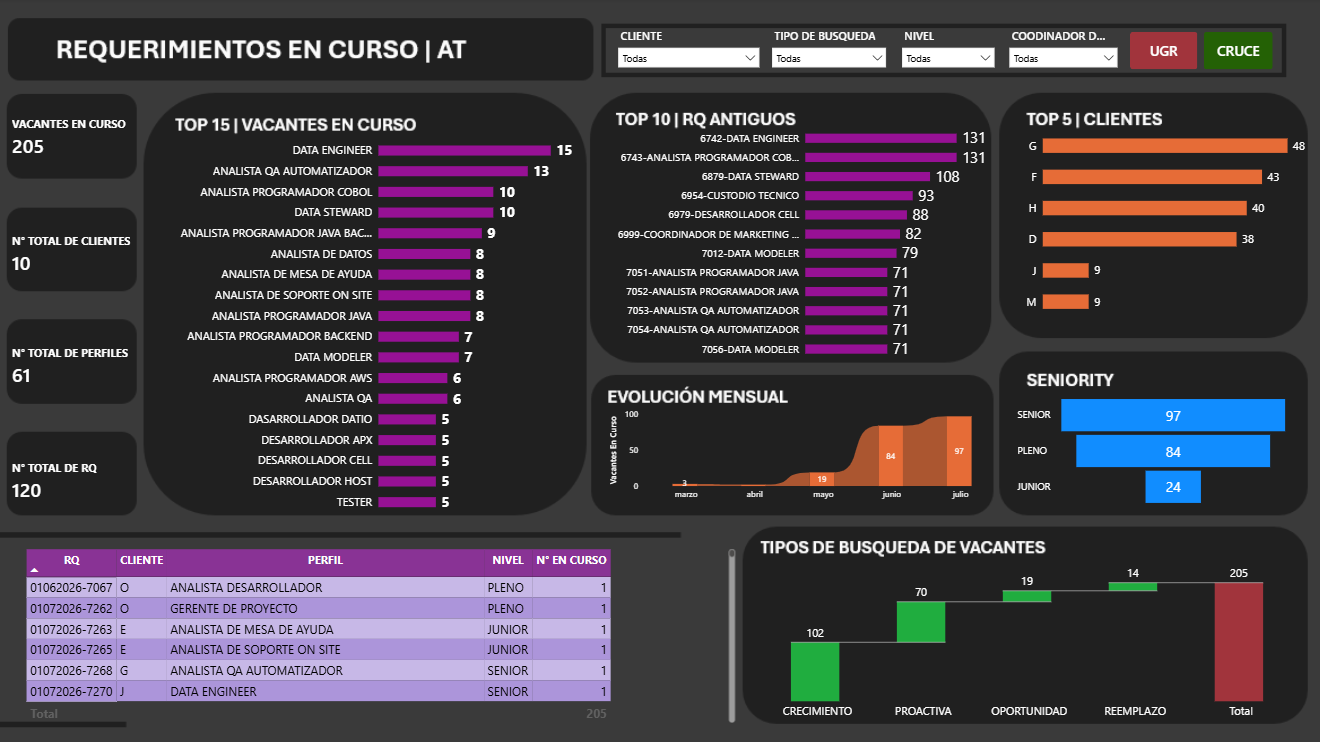

What the dashboard file says about the page in this screenshot:
{"tool":"powerbi","page":{"name":"RQ En curso","canvas":[1920,1080],"ordinal":0},"visuals":[{"type":"slicer","fields":{"Values":["Tabla1.COODINADOR DE RECLUTAMIENTO"]},"box":[1455.9,43.2,165.8,65.9],"z":0},{"type":"slicer","fields":{"Values":["Tabla1.CLIENTE"]},"box":[890.4,43.2,213.5,79.5],"z":1000},{"type":"slicer","fields":{"Values":["Tabla1.NIVEL"]},"box":[1301.5,43.2,143.1,65.9],"z":2000},{"type":"cardVisual","title":"Total Vacantes \"En Curso\"","fields":{"Data":["Sum(Tabla1.VACANTES EN CURSO)"]},"box":[4.7,154.4,209,95.4],"z":3000},{"type":"cardVisual","title":"Total Vacantes \"En Curso\"","fields":{"Data":["Tabla1.Clientes no repetidos"]},"box":[4.7,324.8,209,93.1],"z":4000},{"type":"slicer","fields":{"Values":["Tabla1.MOTIVO DE REQUERIMIENTO"]},"box":[1112.9,43.2,174.9,68.1],"z":5000},{"type":"cardVisual","title":"Total Vacantes \"En Curso\"","fields":{"Data":["Tabla1.N° TOTAL DE PERFILES"]},"box":[4.7,486.1,204.4,93.1],"z":6000},{"type":"cardVisual","title":"Total Vacantes \"En Curso\"","fields":{"Data":["Tabla1.TOTAL DE RQ"]},"box":[4.7,651.9,209,95.4],"z":7000},{"type":"clusteredBarChart","title":"TOP 15 - VACANTES EN CURSO","fields":{"Category":["Tabla1.PERFIL"],"Y":["Sum(Tabla1.VACANTES EN CURSO)"]},"box":[229.4,179.4,615.5,586],"z":8000},{"type":"tableEx","fields":{"Values":["Tabla1.RQ GABIN","Tabla1.CLIENTE","Tabla1.PERFIL","Tabla1.NIVEL","Sum(Tabla1.VACANTES EN CURSO)"]},"box":[22.2,784.1,1058.4,281.7],"z":9000},{"type":"funnel","title":"SENIORITY","fields":{"Category":["Tabla1.NIVEL"],"Y":["Sum(Tabla1.VACANTES EN CURSO)"]},"box":[1455.9,561,424.7,190.8],"z":10000},{"type":"ribbonChart","title":"EVOLUCIÓN MENSUAL","fields":{"Y":["Sum(Tabla1.VACANTES EN CURSO)"],"Category":["Tabla1.FECHA SOLICITUD.Variación.Jerarquía de fechas.Mes"]},"box":[867.6,579.2,599.6,168.1],"z":11000},{"type":"waterfallChart","title":"VACANTES EN CURSO POR TIPO DE BUSQUEDA","fields":{"Category":["Tabla1.MOTIVO DE REQUERIMIENTO"],"Y":["Sum(Tabla1.VACANTES EN CURSO)"]},"box":[1067.5,785.9,844.9,279.4],"z":12000},{"type":"clusteredBarChart","title":"TOP 5 - CLIENTES","fields":{"Category":["Tabla1.CLIENTE"],"Y":["Sum(Tabla1.VACANTES EN CURSO)"]},"box":[1467.3,163.5,438.4,322.5],"z":13000},{"type":"clusteredBarChart","title":"TOP 10 RQ MÁS ANTIGUOS - SLA","fields":{"Category":["Tabla1.RQ-PERFIL"],"Y":["Sum(Tabla1.DIAS ABIERTO)"]},"box":[867.6,163.5,576.9,379.3],"z":14000},{"type":"actionButton","box":[1636.6,48.7,97.7,54.5],"z":15000},{"type":"actionButton","box":[1743.3,48.7,99.9,54.5],"z":16000}]}

Visuals, with their boxes in screenshot pixels (x1, y1, x2, y2), scaled from the page's 1920x1080 canvas onto the 1320x742 screenshot:
slicer - Tabla1.COODINADOR DE RECLUTAMIENTO: 1001 30 1115 75
slicer - Tabla1.CLIENTE: 612 30 759 84
slicer - Tabla1.NIVEL: 895 30 993 75
"Total Vacantes "En Curso"" cardVisual: 3 106 147 172
"Total Vacantes "En Curso"" cardVisual: 3 223 147 287
slicer - Tabla1.MOTIVO DE REQUERIMIENTO: 765 30 885 76
"Total Vacantes "En Curso"" cardVisual: 3 334 144 398
"Total Vacantes "En Curso"" cardVisual: 3 448 147 513
"TOP 15 - VACANTES EN CURSO" clusteredBarChart: 158 123 581 526
tableEx - Tabla1.RQ GABIN x Tabla1.CLIENTE: 15 539 743 732
"SENIORITY" funnel: 1001 385 1293 517
"EVOLUCIÓN MENSUAL" ribbonChart: 596 398 1009 513
"VACANTES EN CURSO POR TIPO DE BUSQUEDA" waterfallChart: 734 540 1315 732
"TOP 5 - CLIENTES" clusteredBarChart: 1009 112 1310 334
"TOP 10 RQ MÁS ANTIGUOS - SLA" clusteredBarChart: 596 112 993 373
actionButton: 1125 33 1192 71
actionButton: 1199 33 1267 71
